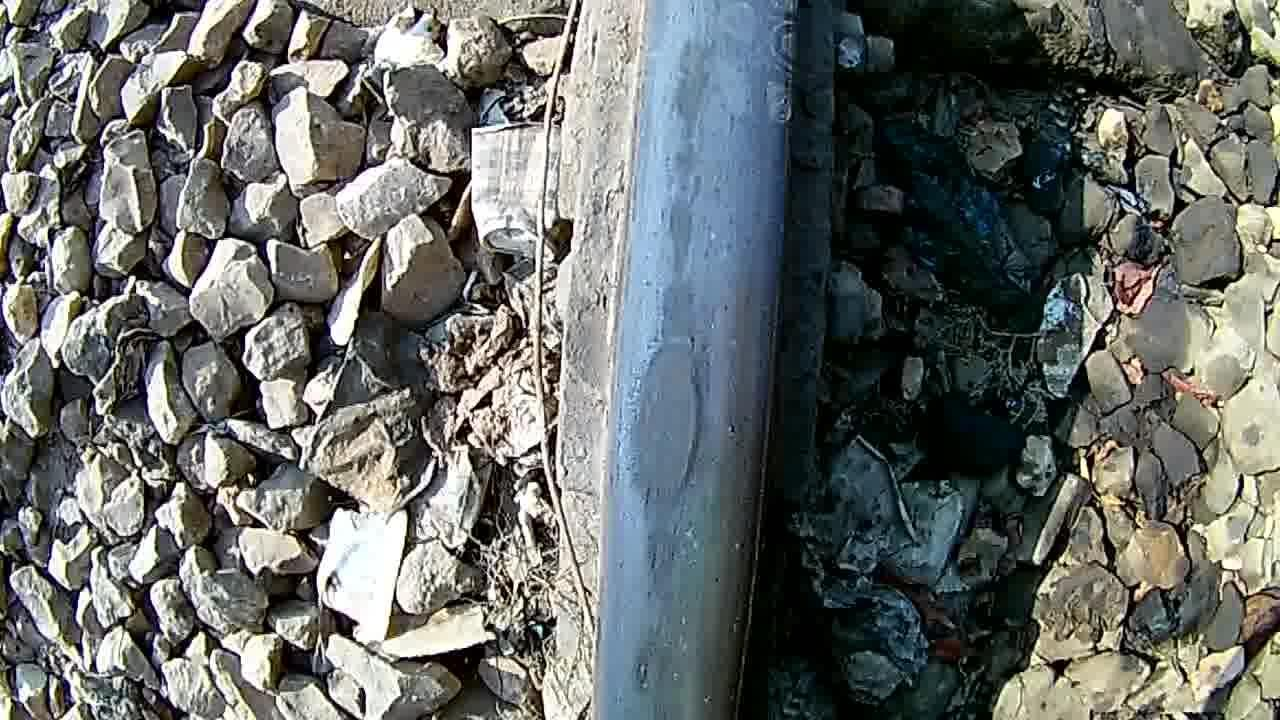crack: (624, 2, 773, 720)
